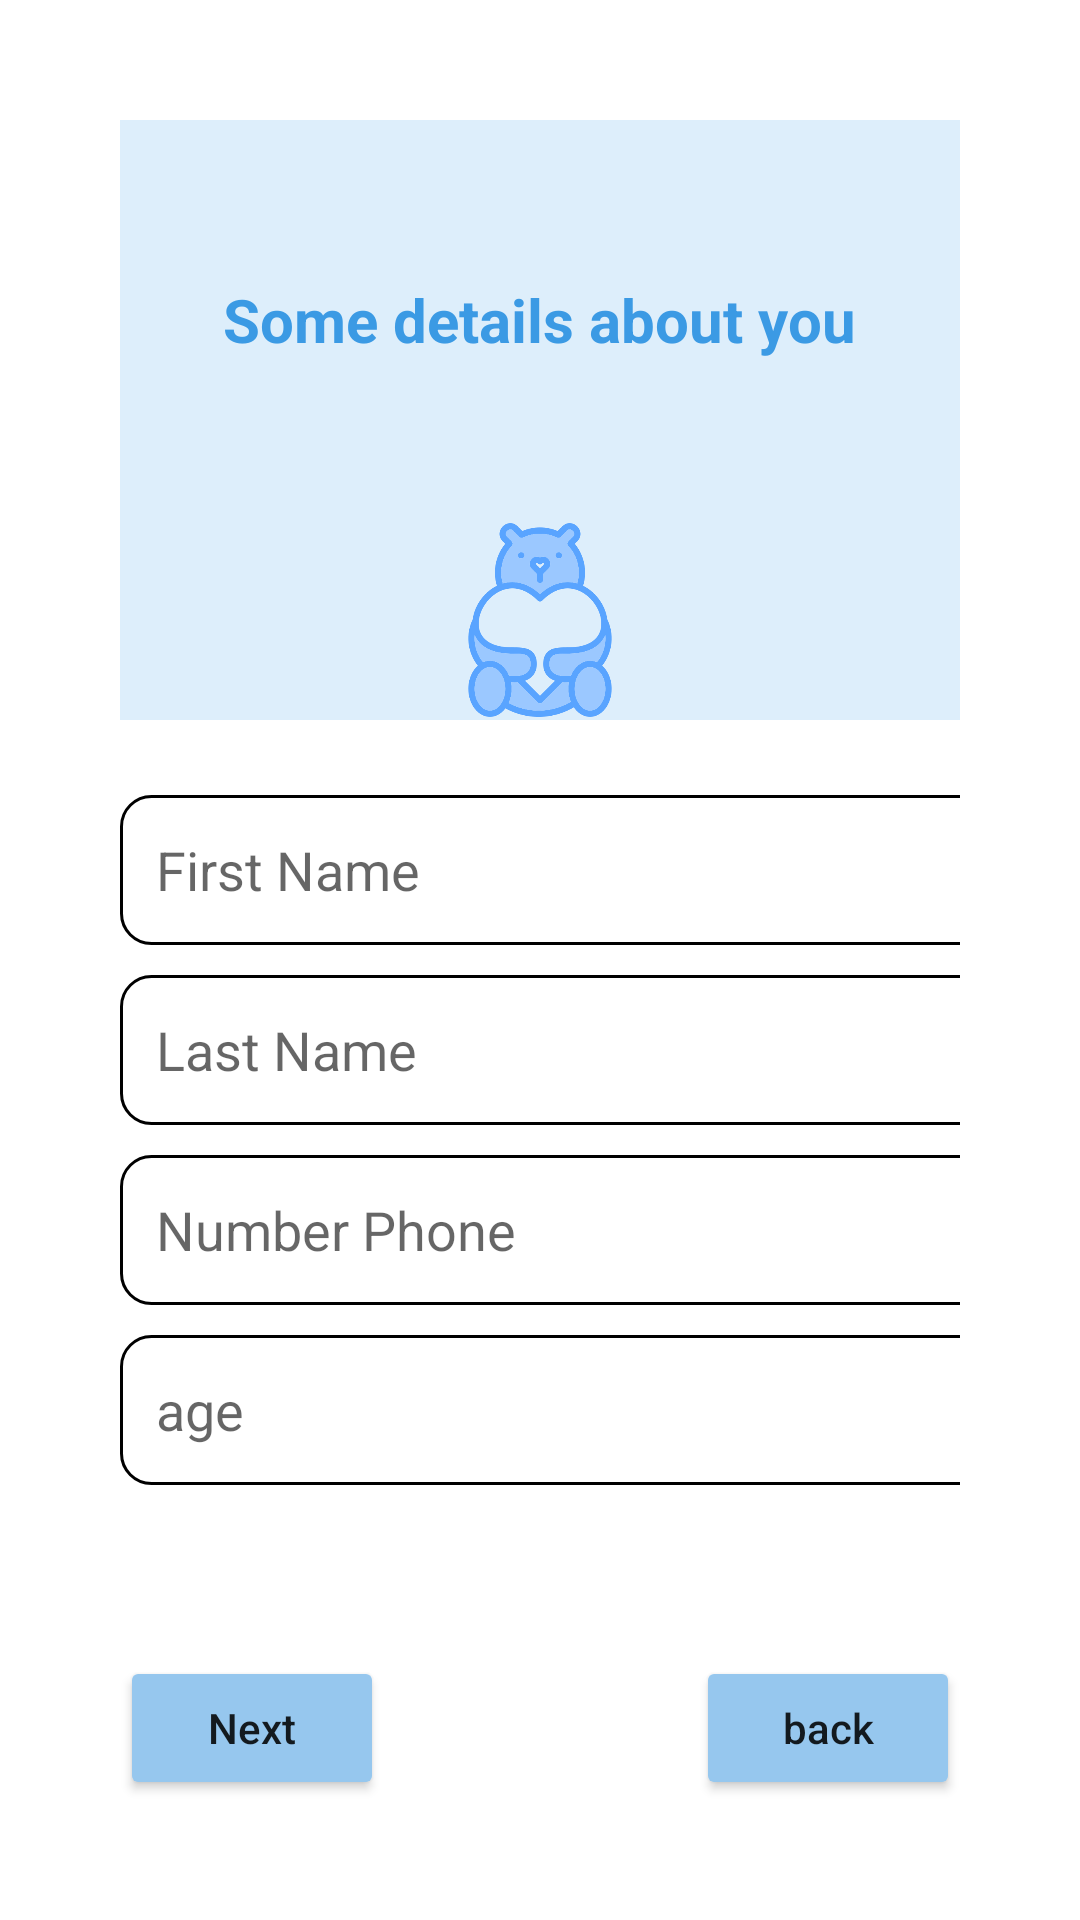

Named icons in this screenshot (1080 x 1920) and their bounding boxes, bbox=[x1, y1, x2, y2]:
bear: bbox=[468, 523, 612, 717]
